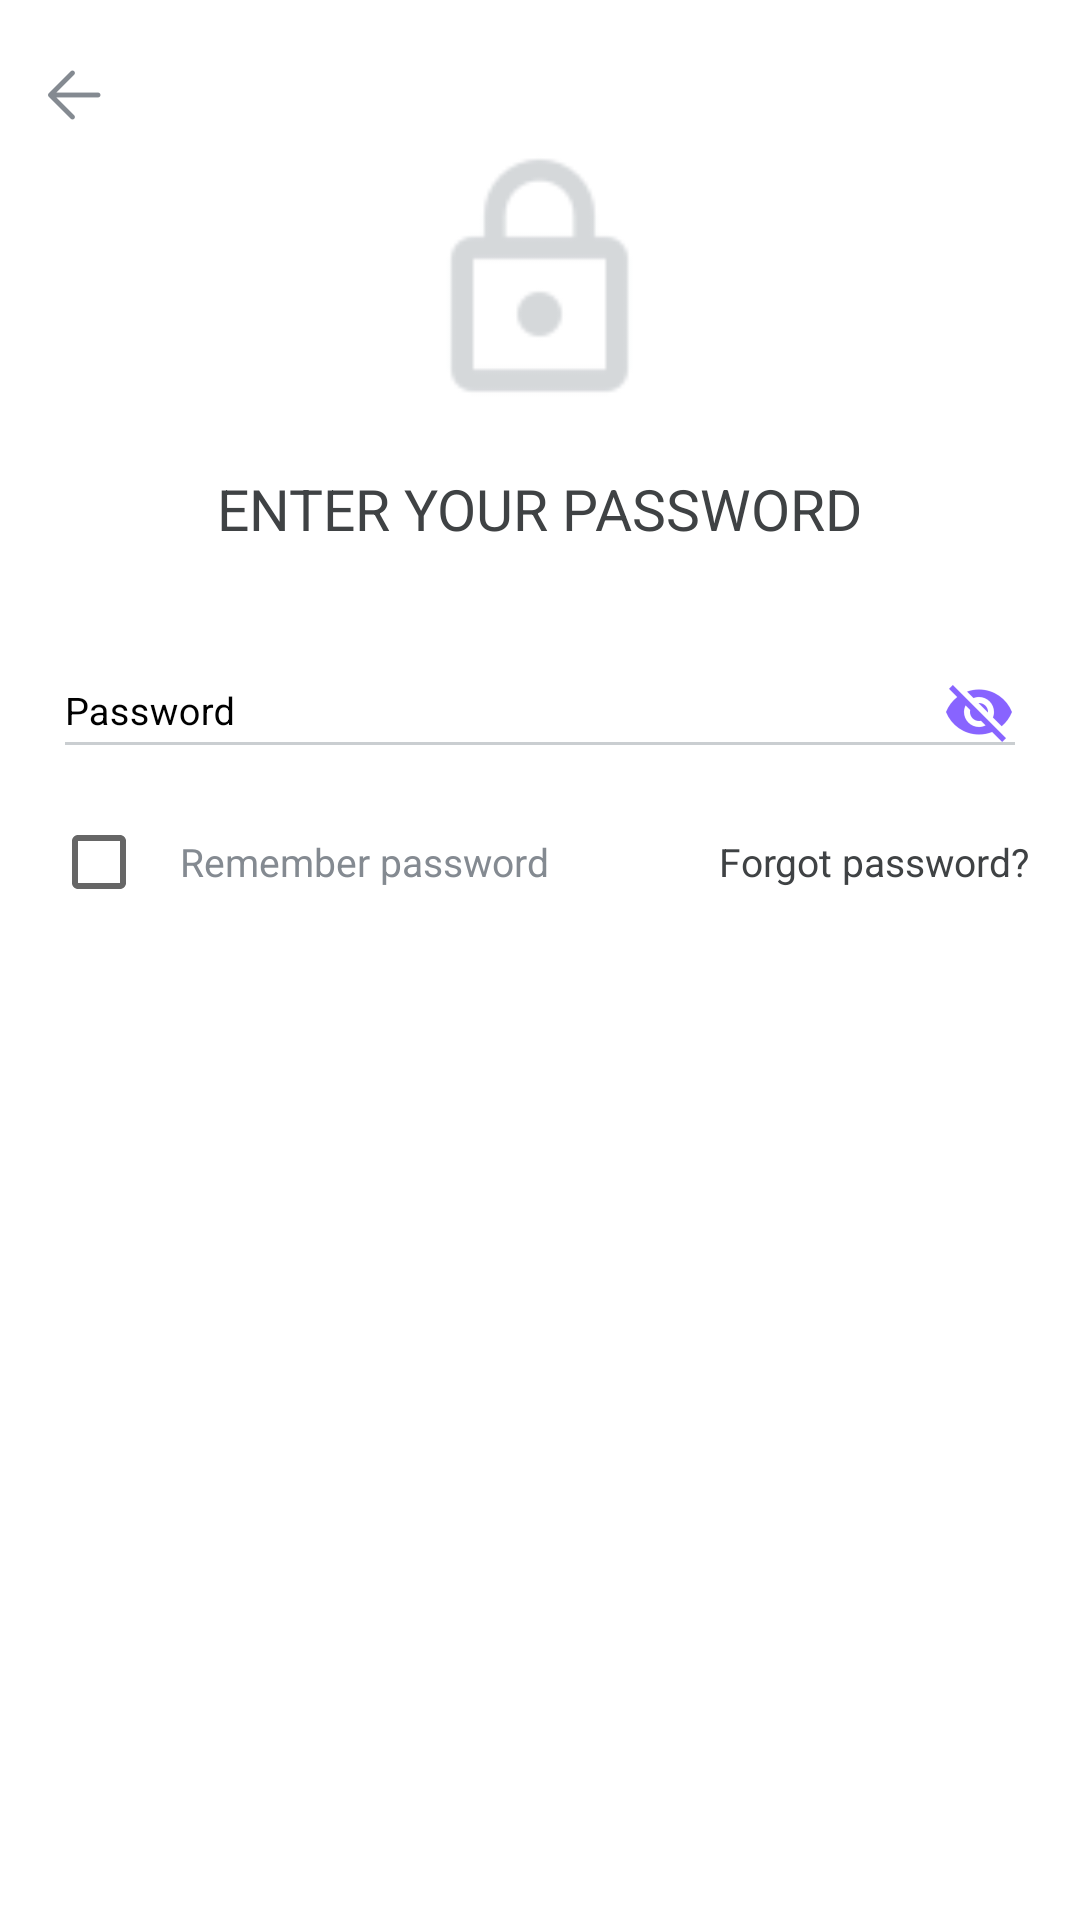

Where icons sit on this 1080 × 1920 app screen, as bbox=[x1, y1, x2, y2]:
back: bbox=[48, 70, 101, 120]
